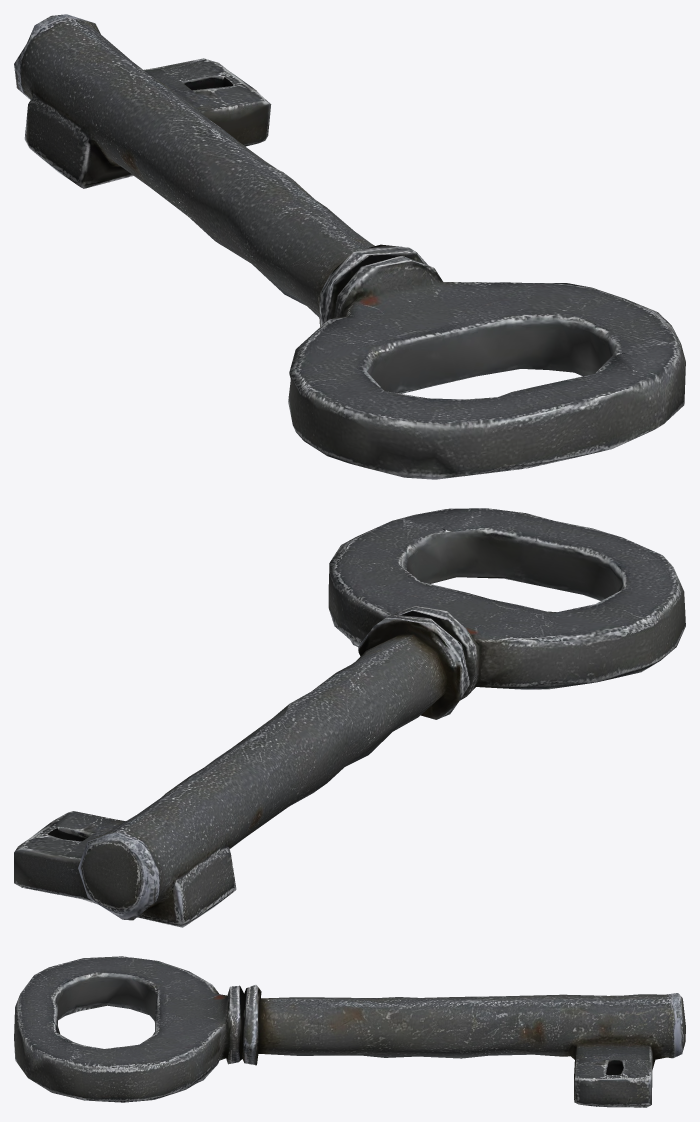
File: key.glb
3 renders of one model, top to bottom at view 1: azimuth 30°, elevation 25°; view 2: azimuth 150°, elevation 25°; view 3: azimuth 270°, elevation 25°, orthographic. The views are drawn at different scales.
Parts seen in each view (by area): view 1: key; view 2: key; view 3: key.
Boxes of the visible parts, x1,y1,x2,y2 form: key: [14, 14, 685, 479]; key: [14, 508, 685, 927]; key: [14, 956, 685, 1107].
Size of the model in its own units: 0.0278 by 0.00839 by 0.07.
1 material, 1 textured.
